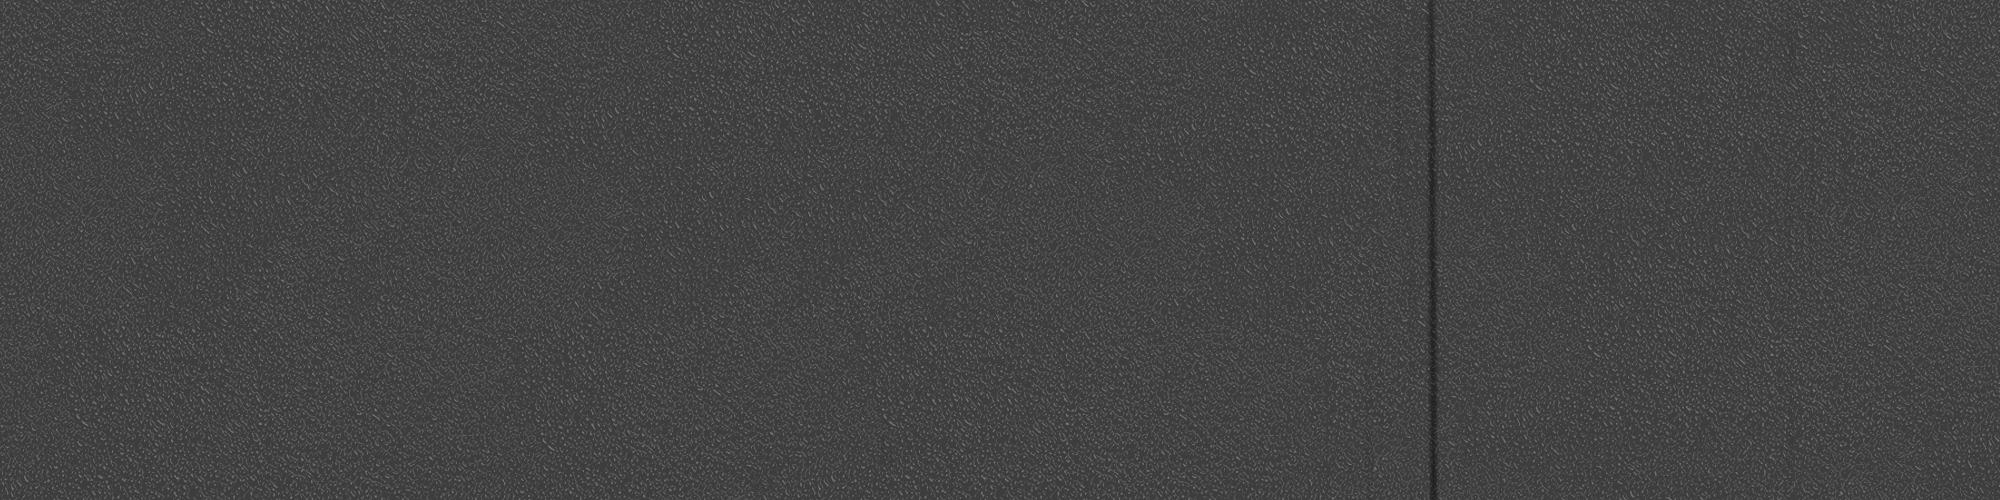DieDrag: (1401, 5, 1463, 497)
